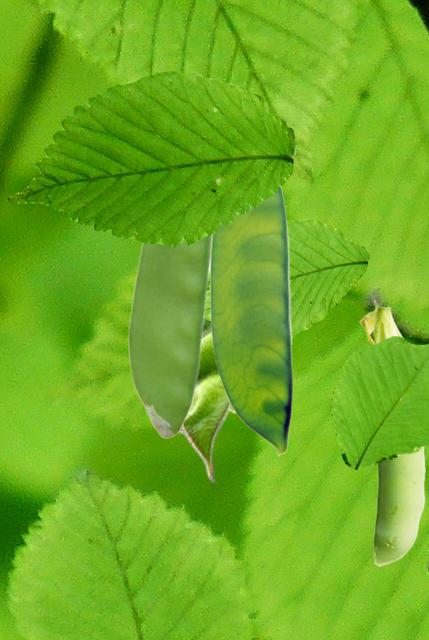pea: (209, 187, 291, 455), (127, 234, 213, 438), (359, 299, 424, 565), (177, 320, 232, 482)
